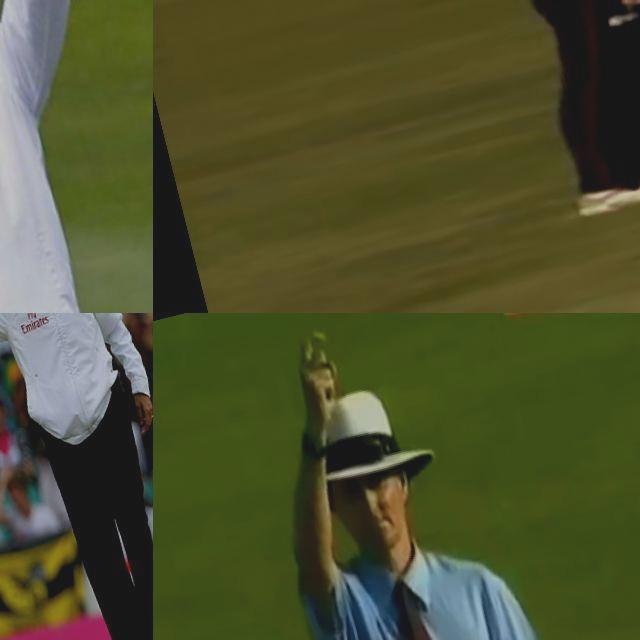No_Action: (425, 0, 640, 250)
No_Ball: (0, 313, 153, 640)
Out: (231, 313, 596, 640)
Six: (0, 0, 153, 313)
